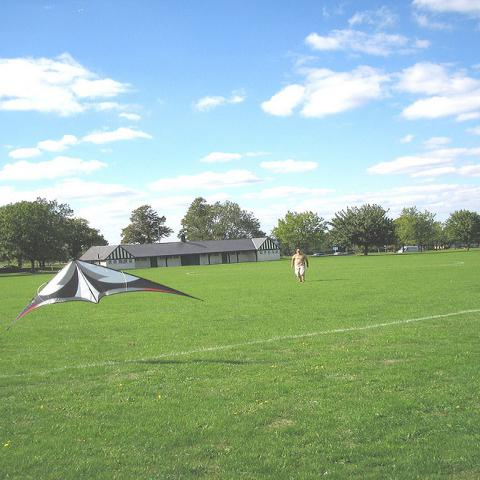car: (310, 253, 328, 257), (2, 265, 19, 268), (332, 252, 346, 255)
truck: (396, 246, 419, 253)
